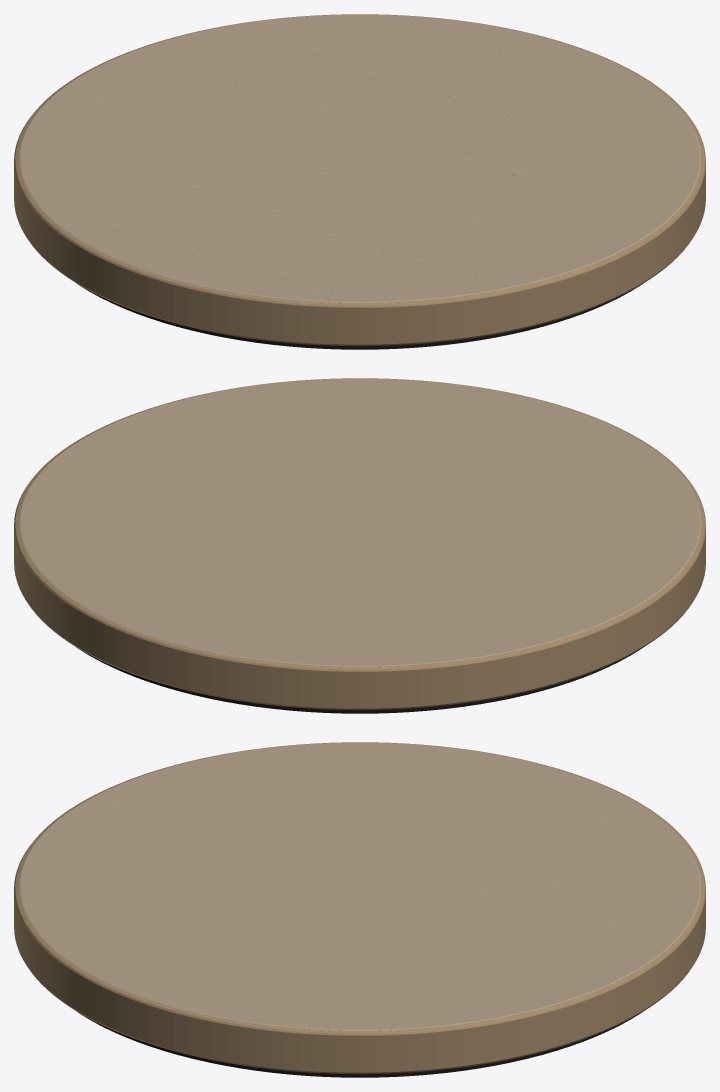
File: dais.glb
The picture shows the model from 3 angles, top to bottom: view 1: azimuth 30°, elevation 25°; view 2: azimuth 150°, elevation 25°; view 3: azimuth 270°, elevation 25°; orthographic projection.
Visible parts, largest first — view 1: 실내 조명 베이크용 dais; view 2: 실내 조명 베이크용 dais; view 3: 실내 조명 베이크용 dais.
Boxes of the visible parts, bbox=[...] form: 실내 조명 베이크용 dais: bbox=[14, 14, 705, 349]; 실내 조명 베이크용 dais: bbox=[14, 378, 705, 713]; 실내 조명 베이크용 dais: bbox=[14, 742, 705, 1077].
Bounding box in the file's own units: 3.81 × 0.3136 × 3.81.
